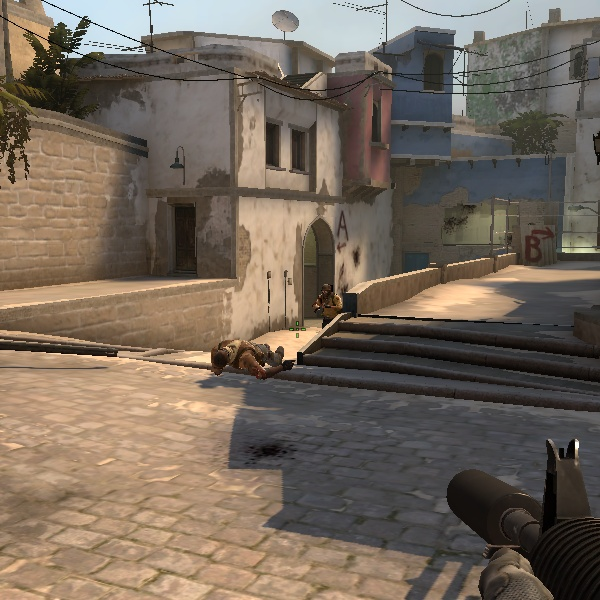t_body: (307, 278, 350, 332)
